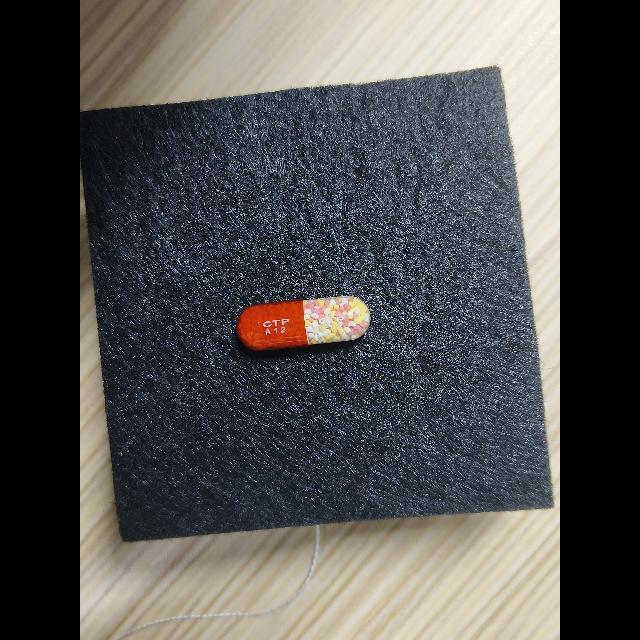Intact Capsule: (237, 296, 371, 350)
